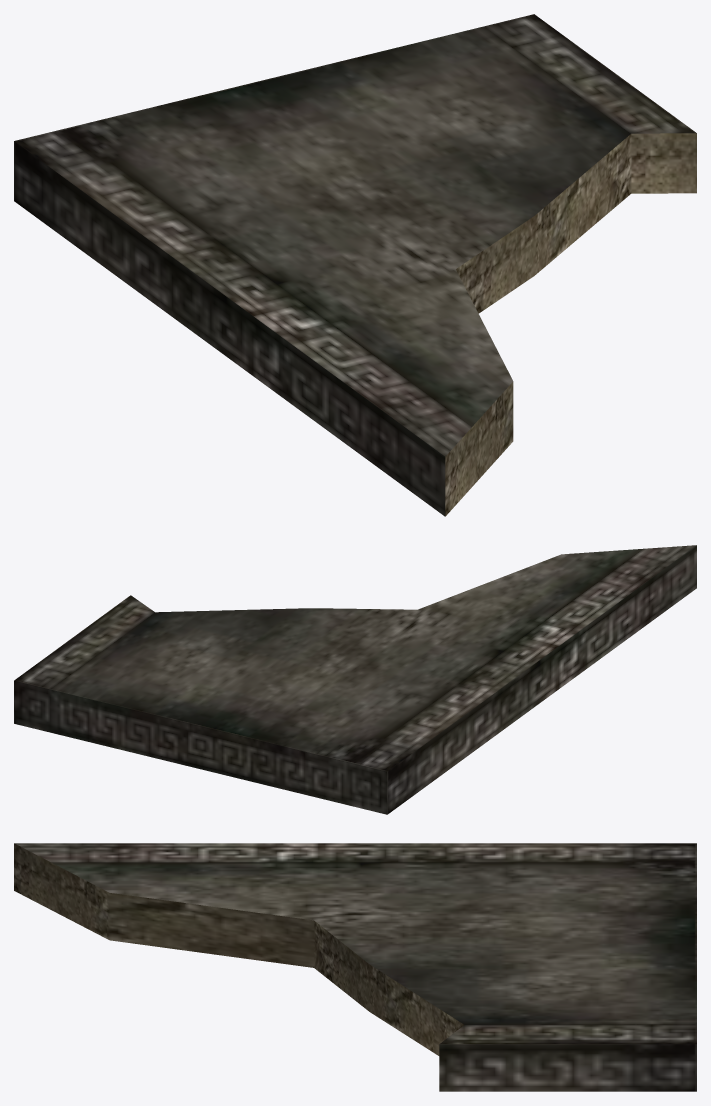
The picture shows the model from 3 angles, top to bottom: view 1: azimuth 30°, elevation 25°; view 2: azimuth 150°, elevation 25°; view 3: azimuth 270°, elevation 25°; orthographic projection. The views are drawn at different scales.
Parts seen in each view (by area): view 1: model_Object26; view 2: model_Object26; view 3: model_Object26.
Boxes of the visible parts, box(x1,y1,x2,y2) form: model_Object26: box(14, 14, 696, 516); model_Object26: box(14, 545, 696, 814); model_Object26: box(14, 843, 696, 1091).
Size of the model in its own units: 0.8604 by 0.0949 by 1.24.
Materials: 2 (2 with a texture image).
